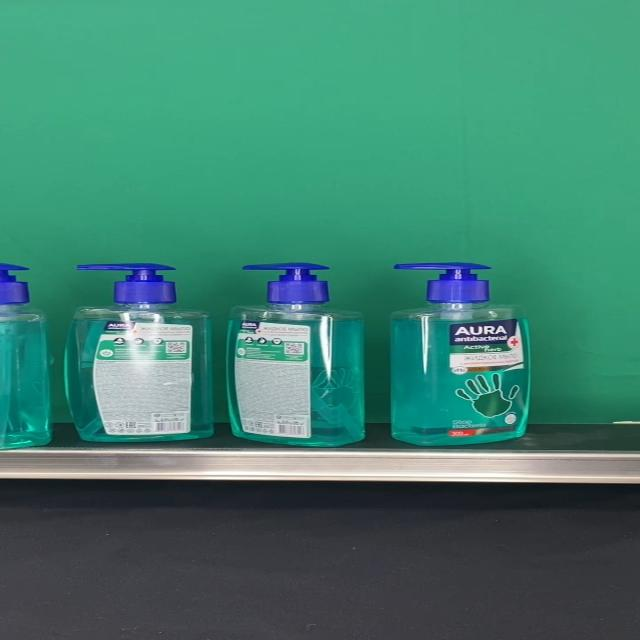Bottle: (64, 263, 213, 442), (388, 263, 530, 446), (225, 263, 364, 447)
Cap: (77, 262, 176, 304), (393, 263, 492, 305), (242, 262, 331, 304)
